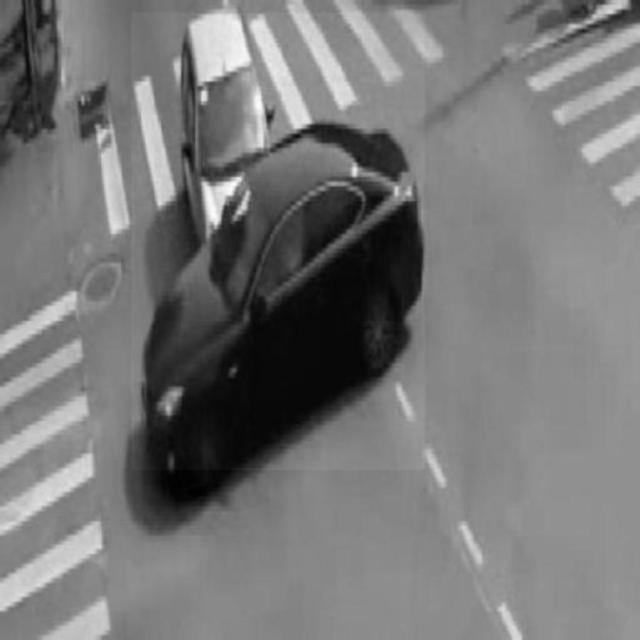accident: (131, 13, 425, 470)
